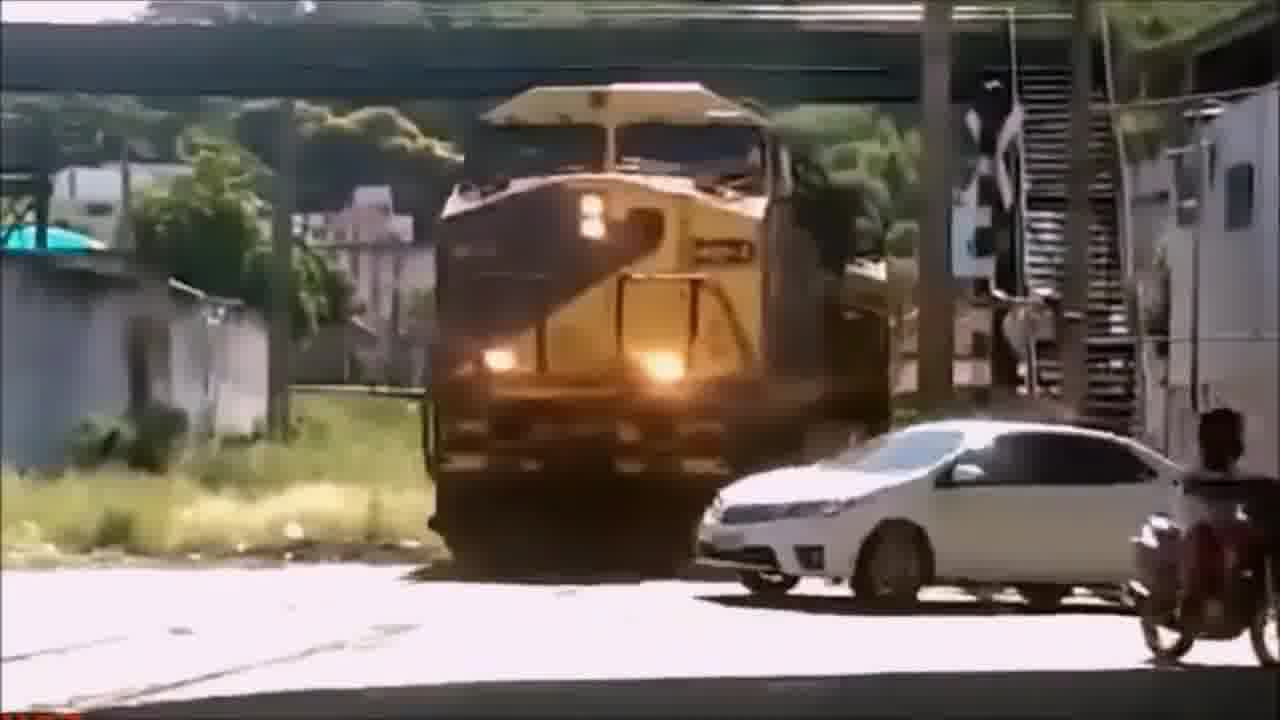crossing railway track: (674, 404, 1270, 607)
